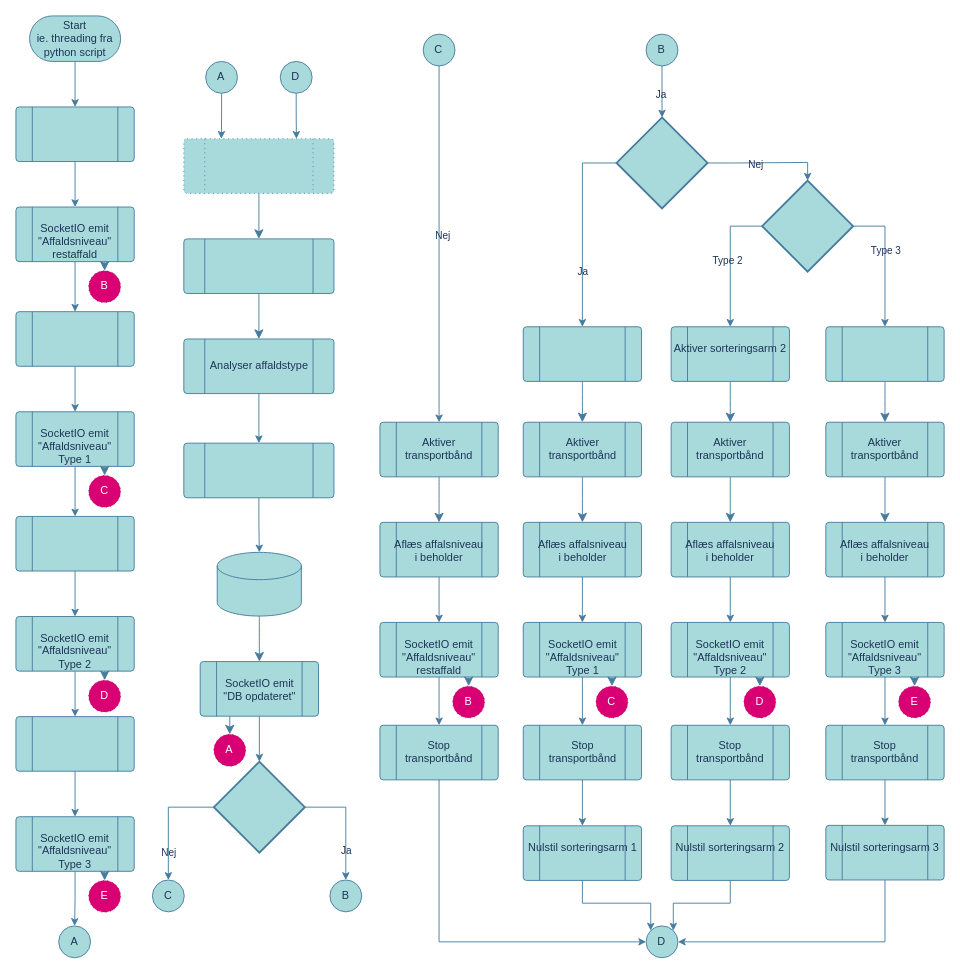
Image size: 960x974. Some labels were removed from this diagram. The shapes that lost their labels are listed below. From the top down, each one's centre as x and y in pixels, then its label:
the point at 74,134: Aflæs affalsniveau i beholder "restaffald"
the point at 258,165: Afvent objektgenkendelse gennem kamera
the point at 661,162: Er det type 1?
the point at 807,225: Er det type 2 eller 3?
the point at 258,265: Detekter affald
the point at 74,338: Aflæs affalsniveau i beholder "type 1"
the point at 582,353: Aktiver sorteringsarm 1
the point at 884,353: Aktiver sorteringsarm 3
the point at 258,470: Gem type i variabel
the point at 74,543: Aflæs affalsniveau i beholder "type 2"
the point at 258,583: Tilføj til DB
the point at 74,743: Aflæs affalsniveau i beholder "type 3"
the point at 258,806: Er affaldstypen genkendt?
